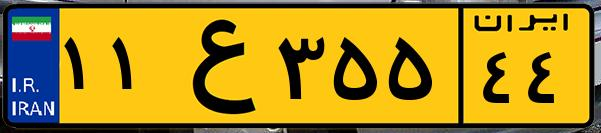1: (57, 26, 110, 100), (110, 28, 158, 98)
3: (270, 28, 330, 110)
4: (475, 38, 525, 113), (525, 38, 570, 115)
5: (385, 28, 445, 110), (330, 28, 385, 110)
ع: (158, 12, 270, 120)
